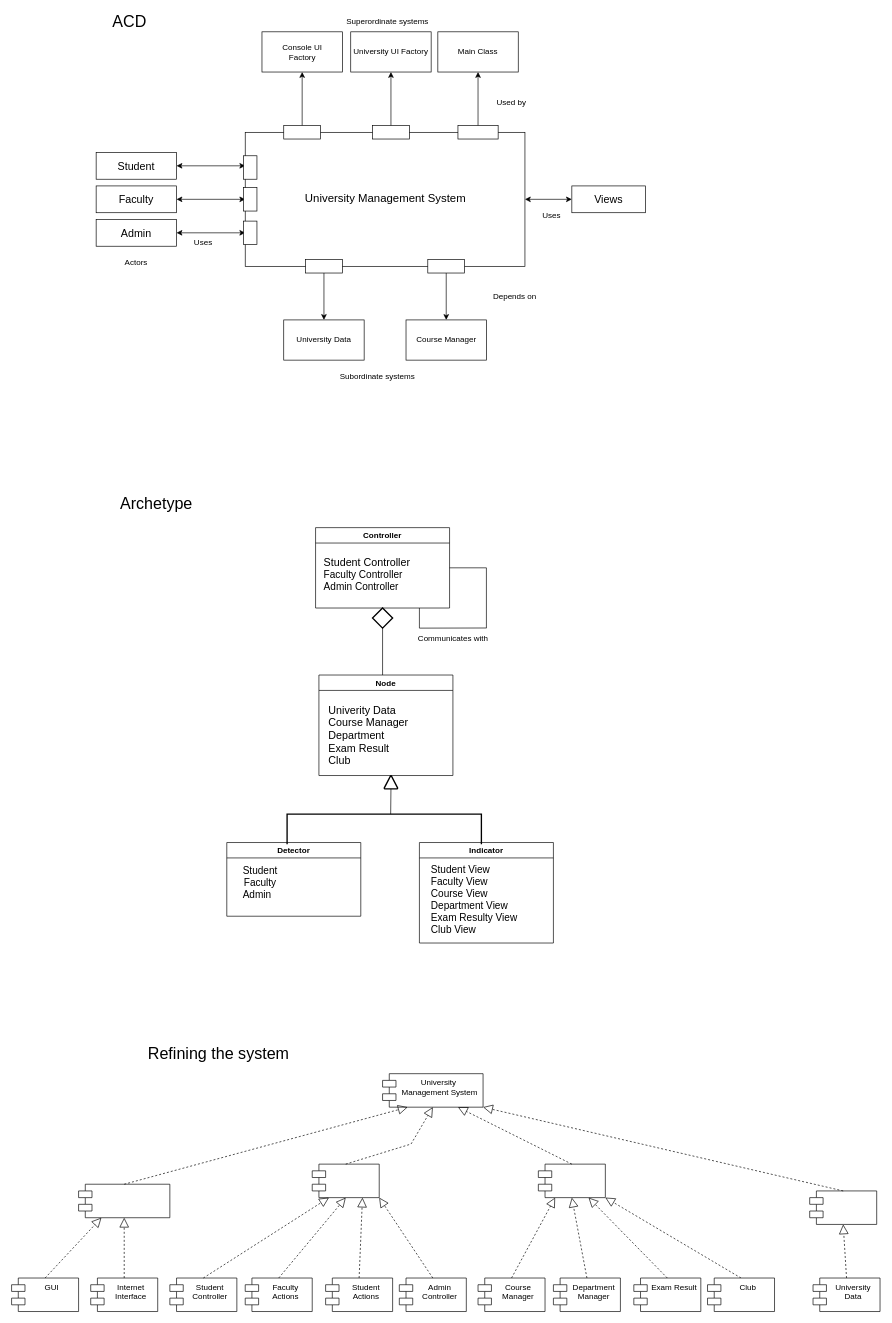
The diagram is 892 pixels wide and 1323 high, and some of its shapes have lost their labels. The shapes that lost their labels are listed below. From the top down, each one's centre as x and y in pixels, then its label:
At point (345, 1180): "Controller Component".
At point (571, 1180): "Academic Manager".
At point (124, 1201): "UI Management Component".
At point (843, 1207): "Data Management Component".
